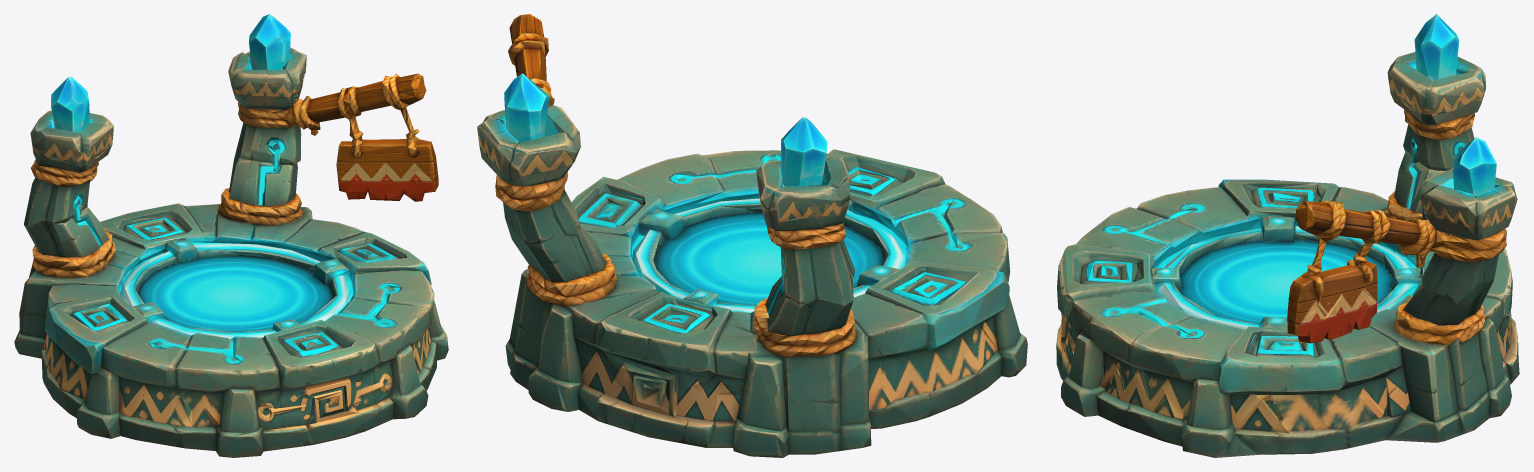
File: arenagate-meshy.glb
3 views of the same model, side by side, from view 1: azimuth 30°, elevation 25°; view 2: azimuth 150°, elevation 25°; view 3: azimuth 270°, elevation 25° (orthographic). The views are drawn at different scales.
Size of the model in its own units: 1.9 by 1.22 by 1.74.
1 material, 1 textured.
